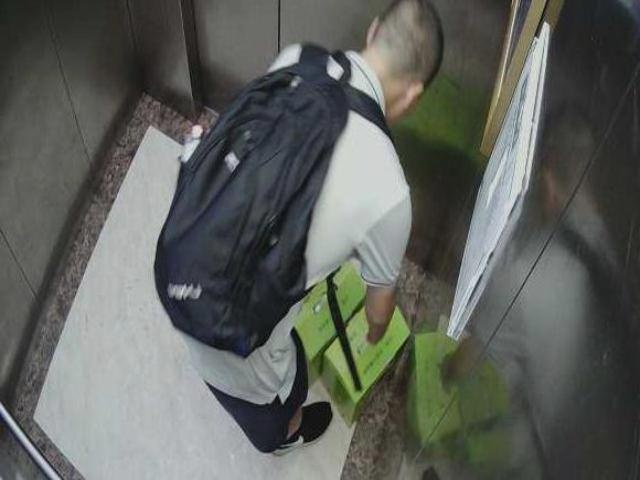bag: (148, 42, 317, 343), (292, 267, 389, 427)
